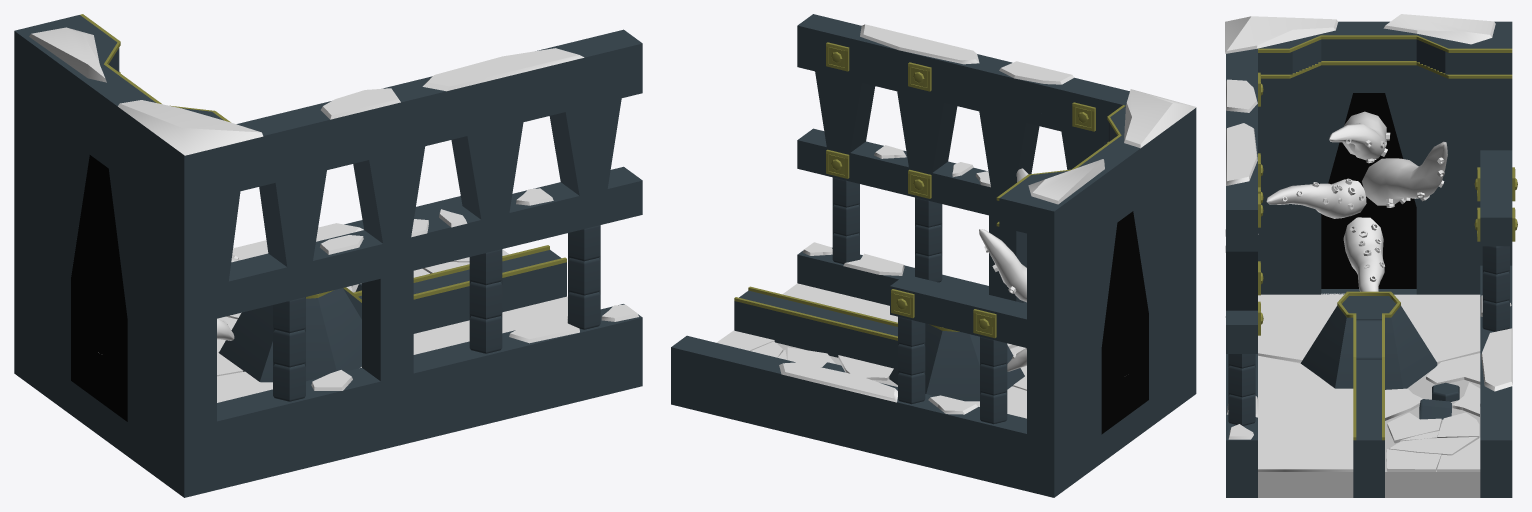
Rendered from temple_entrance_env.fbx.
3 renders of one model, left to right at view 1: azimuth 30°, elevation 25°; view 2: azimuth 150°, elevation 25°; view 3: azimuth 270°, elevation 25°, orthographic. The views are drawn at different scales.
Visible parts, largest first — view 1: env, ice_crusts, black_portal; view 2: env, ice_crusts, black_portal, tentacles1; view 3: env, ice_crusts, tentacles1, black_portal, water.
Boxes of the visible parts, <box> form: env: <box>14,14,642,497</box>; ice_crusts: <box>29,27,638,402</box>; black_portal: <box>71,155,127,421</box>; env: <box>671,14,1196,497</box>; ice_crusts: <box>716,24,1196,418</box>; black_portal: <box>1101,211,1148,434</box>; tentacles1: <box>979,168,1028,371</box>; env: <box>1226,21,1517,497</box>; ice_crusts: <box>1225,14,1512,471</box>; tentacles1: <box>1266,111,1447,291</box>; black_portal: <box>1321,93,1416,288</box>; water: <box>1258,359,1480,497</box>.
Bounding box in the file's own units: 14.01 × 10.38 × 9.22.
